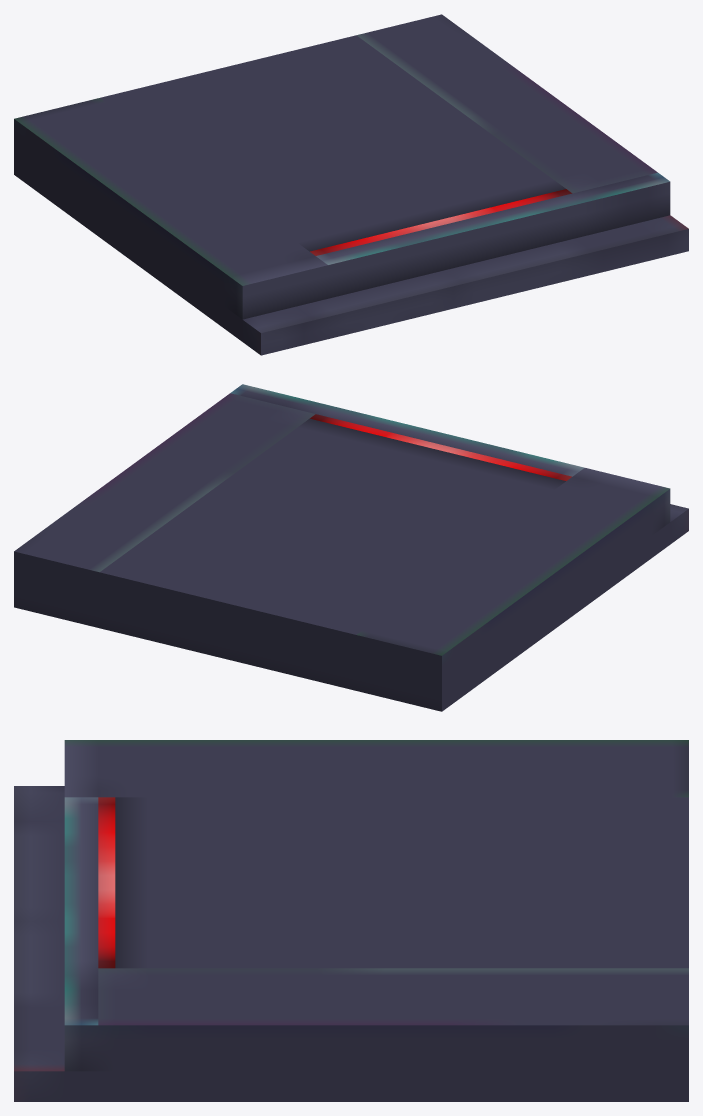
The model's file is PavementTile_F_00.fbx.
3 views of the same model, one above another, from view 1: azimuth 30°, elevation 25°; view 2: azimuth 150°, elevation 25°; view 3: azimuth 270°, elevation 25° (orthographic). The views are drawn at different scales.
Visible parts, largest first — view 1: PavementTile_F_00; view 2: PavementTile_F_00; view 3: PavementTile_F_00.
Part boxes in pixels (<box>): PavementTile_F_00: <box>14,14,688,355</box>; PavementTile_F_00: <box>14,384,688,711</box>; PavementTile_F_00: <box>14,740,688,1101</box>.
Bounding box in the file's own units: 200 × 25 × 200.
